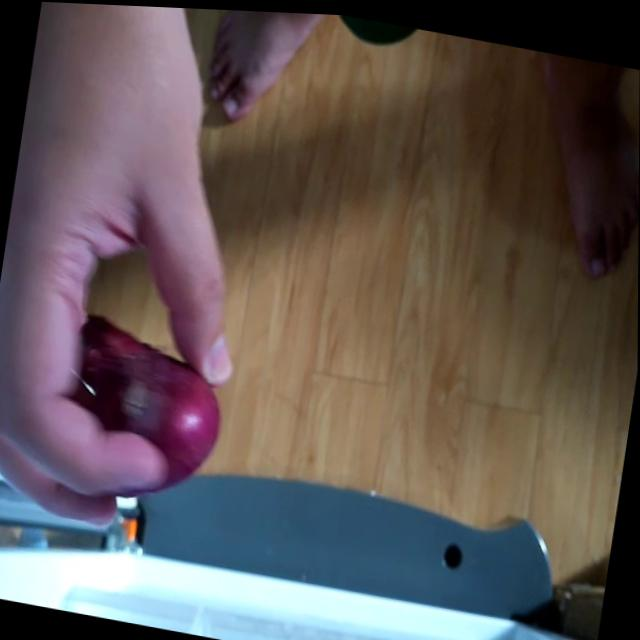onion: (56, 308, 229, 495)
